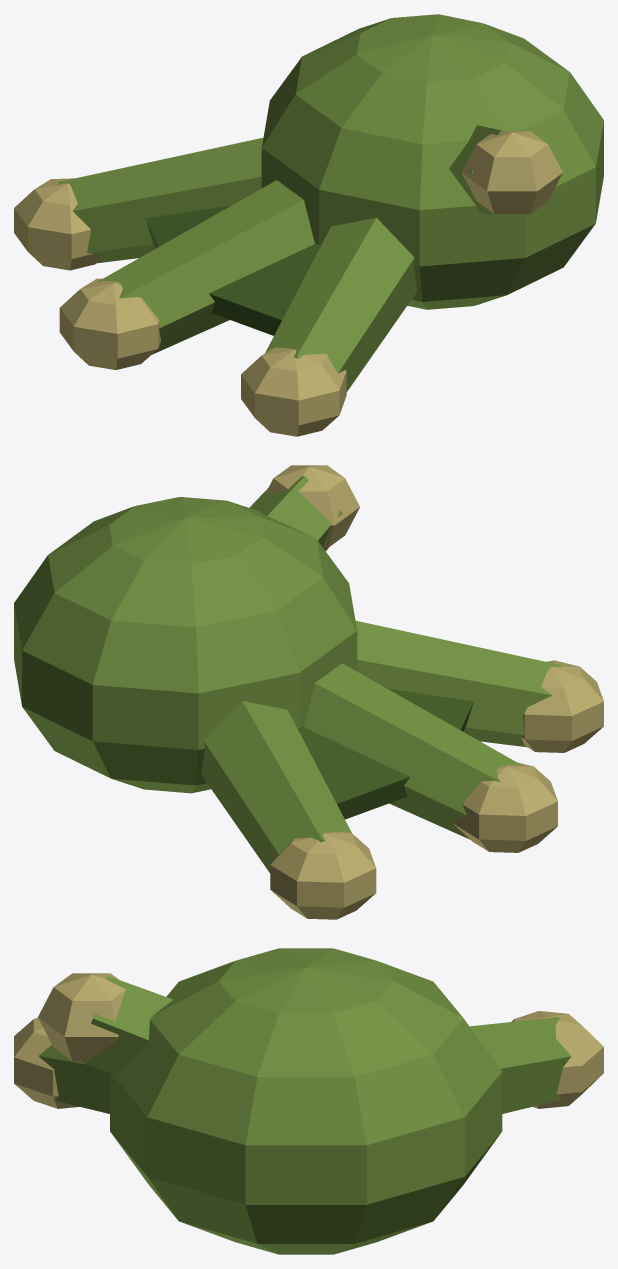
File: pondkin_hand_r.glb
3 views of the same model, one above another, from view 1: azimuth 30°, elevation 25°; view 2: azimuth 150°, elevation 25°; view 3: azimuth 270°, elevation 25° (orthographic). The views are drawn at different scales.
Parts seen in each view (by area): view 1: pondkin_hand_r; view 2: pondkin_hand_r; view 3: pondkin_hand_r.
Part boxes in pixels (bbox=[...]): pondkin_hand_r: bbox=[14, 14, 603, 436]; pondkin_hand_r: bbox=[14, 465, 603, 919]; pondkin_hand_r: bbox=[14, 948, 603, 1254].
Size of the model in its own units: 0.4626 by 0.22 by 0.4397.
